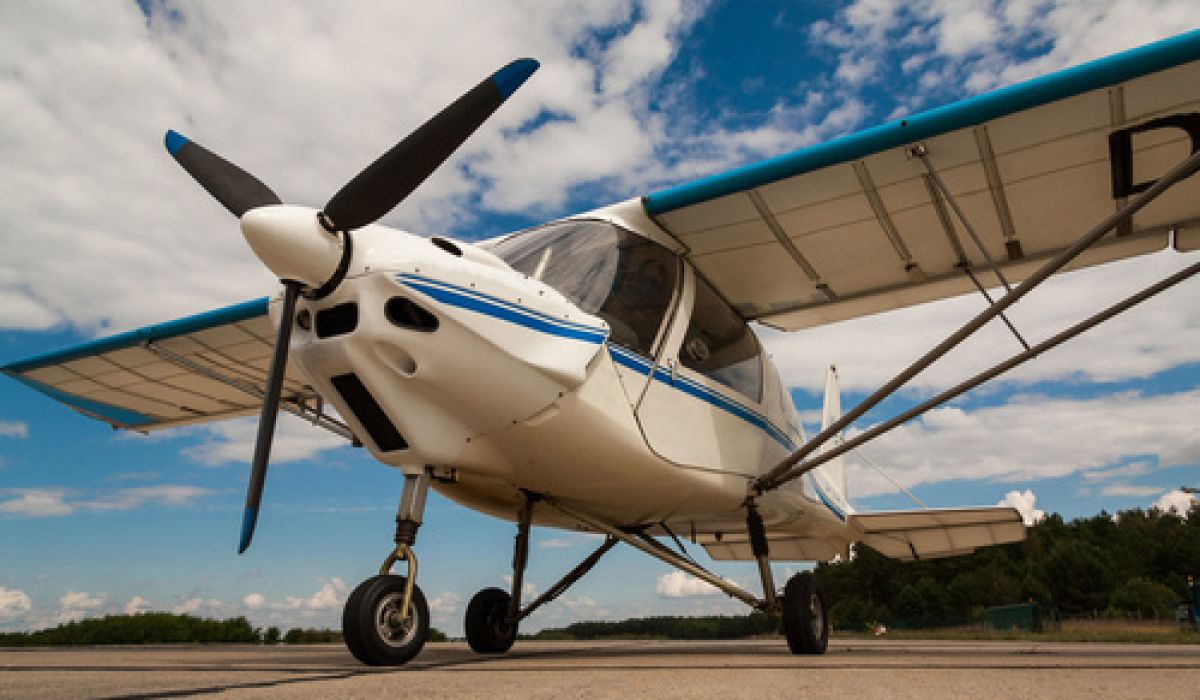Aeronef_de_loisir: (2, 19, 1200, 672)
